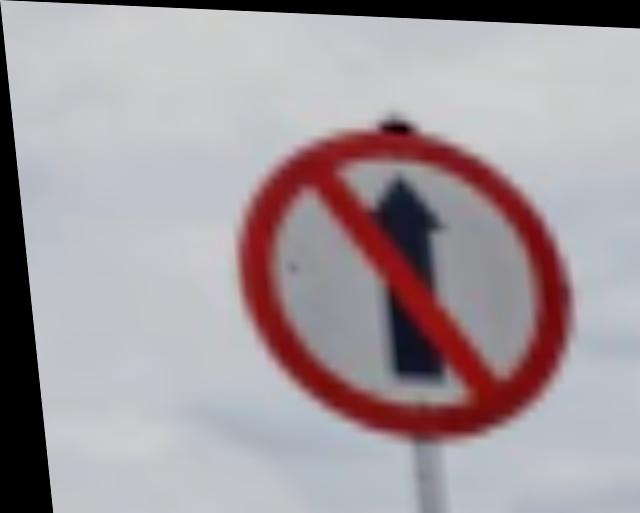not_go_straight: (214, 102, 582, 442)
